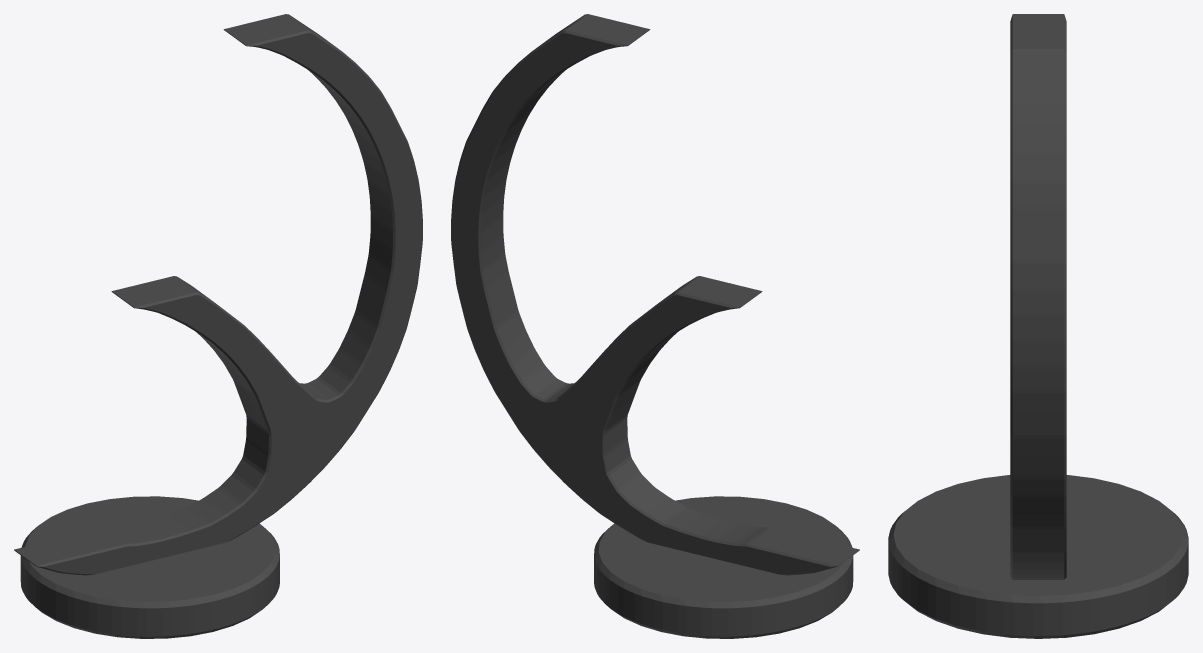
Rendered from stand.glb.
3 renders of one model, left to right at view 1: azimuth 30°, elevation 25°; view 2: azimuth 150°, elevation 25°; view 3: azimuth 270°, elevation 25°, orthographic. The views are drawn at different scales.
Visible parts, largest first — view 1: Stand; view 2: Stand; view 3: Stand.
Boxes of the visible parts, box(x1,y1,x2,y2) form: Stand: box(14, 14, 422, 638); Stand: box(451, 14, 859, 638); Stand: box(888, 14, 1188, 638).
Size of the model in its own units: 6.9 by 9.01 by 4.01.
Materials: 1 (1 with a texture image).
